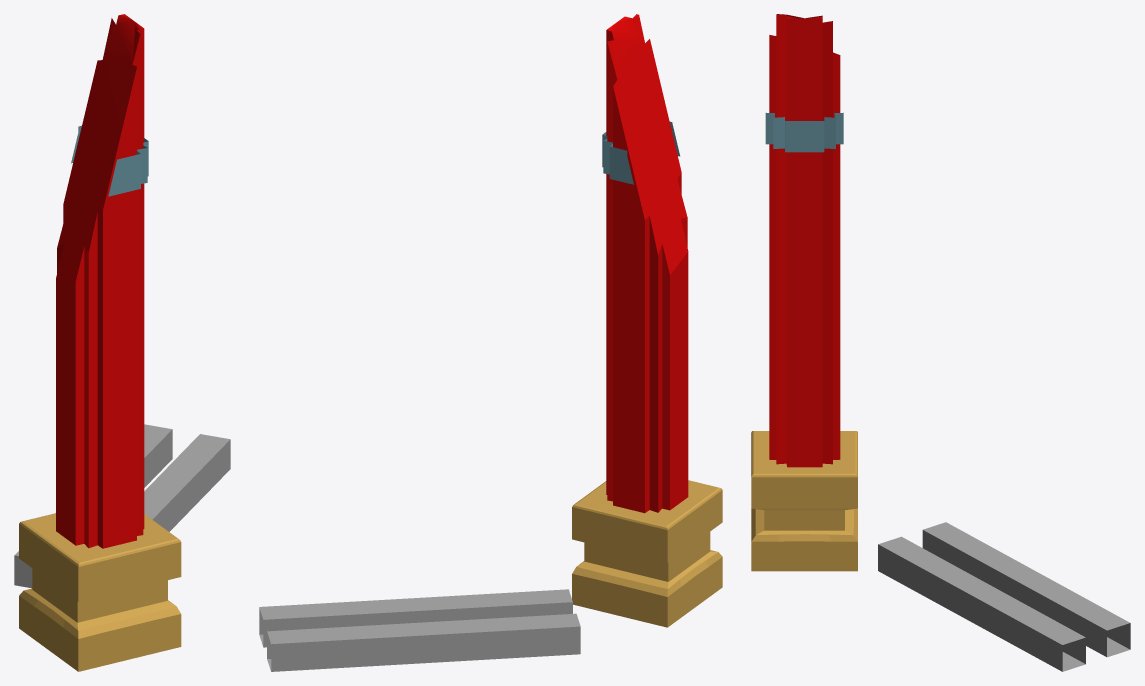
The model's file is columna rota 2.fbx.
3 views of the same model, side by side, from view 1: azimuth 30°, elevation 25°; view 2: azimuth 150°, elevation 25°; view 3: azimuth 270°, elevation 25° (orthographic). The views are drawn at different scales.
Parts seen in each view (by area): view 1: columna_rota_2; view 2: columna_rota_2; view 3: columna_rota_2.
Boxes of the visible parts, x1,y1,x2,y2 form: columna_rota_2: (14, 14, 230, 671); columna_rota_2: (259, 14, 722, 671); columna_rota_2: (751, 14, 1130, 671).
Size of the model in its own units: 2.9 by 5.21 by 3.26.
